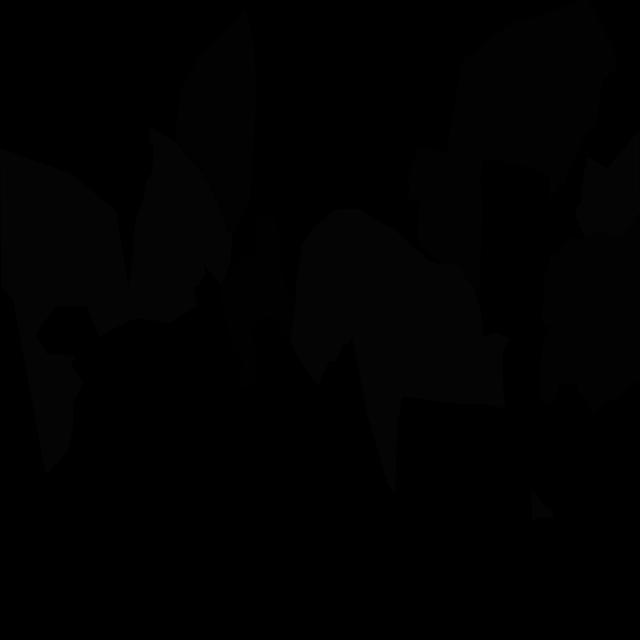cardboard: (406, 0, 618, 288), (539, 214, 640, 415), (174, 10, 256, 232)
rigid_plastic: (218, 212, 296, 390)
soft_plastic: (290, 208, 510, 496), (0, 148, 140, 475), (128, 127, 233, 323), (575, 129, 640, 238), (531, 489, 554, 520)
